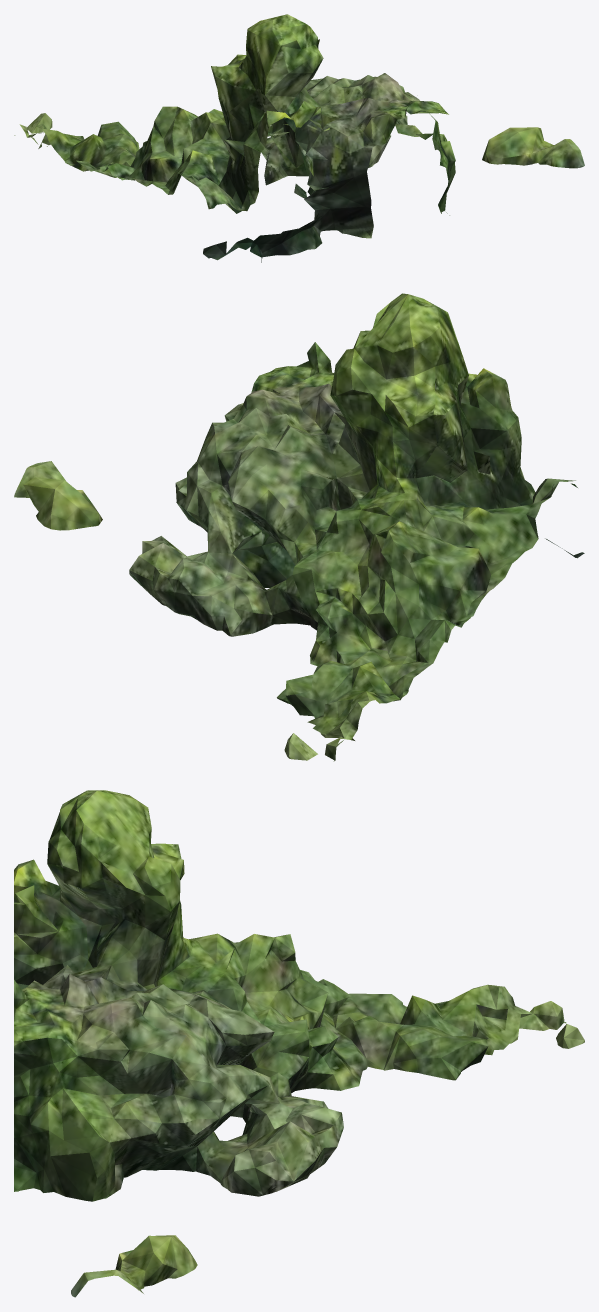
The picture shows the model from 3 angles, top to bottom: view 1: azimuth 30°, elevation 25°; view 2: azimuth 150°, elevation 25°; view 3: azimuth 270°, elevation 25°; orthographic projection. The views are drawn at different scales.
Size of the model in its own units: 26.11 by 13.56 by 22.9.
2 materials, 2 textured.
